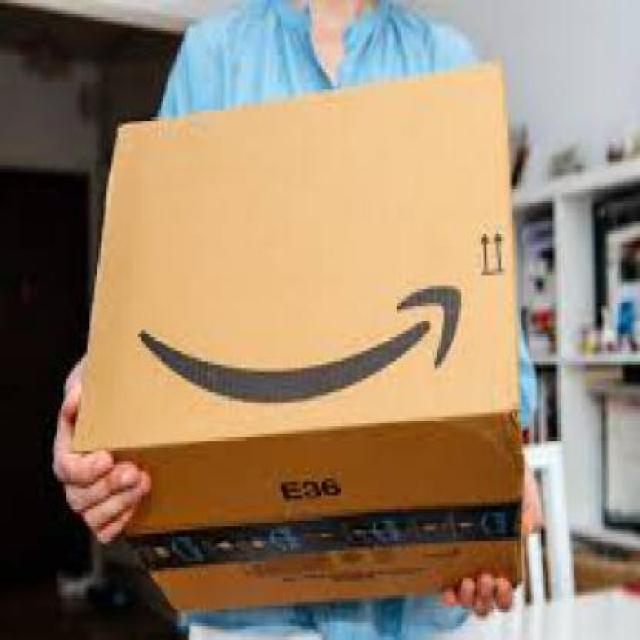cardboxes: (70, 53, 530, 615)
